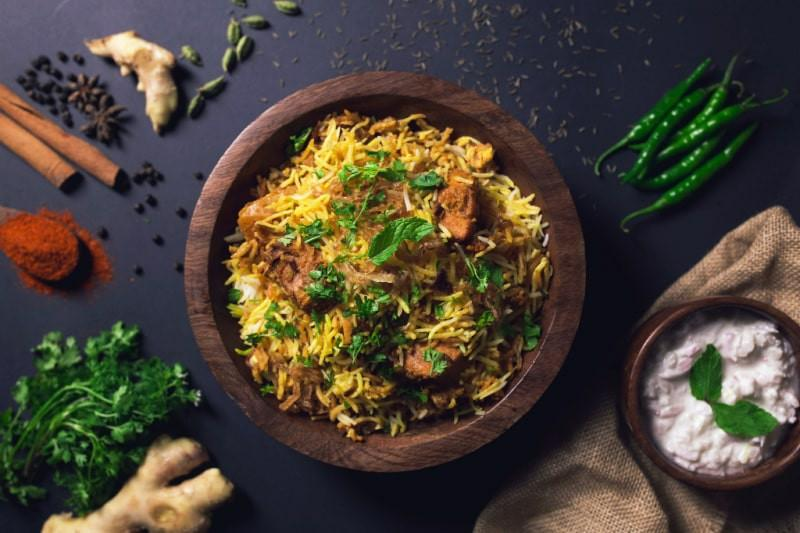Biryani: (220, 103, 553, 445)
